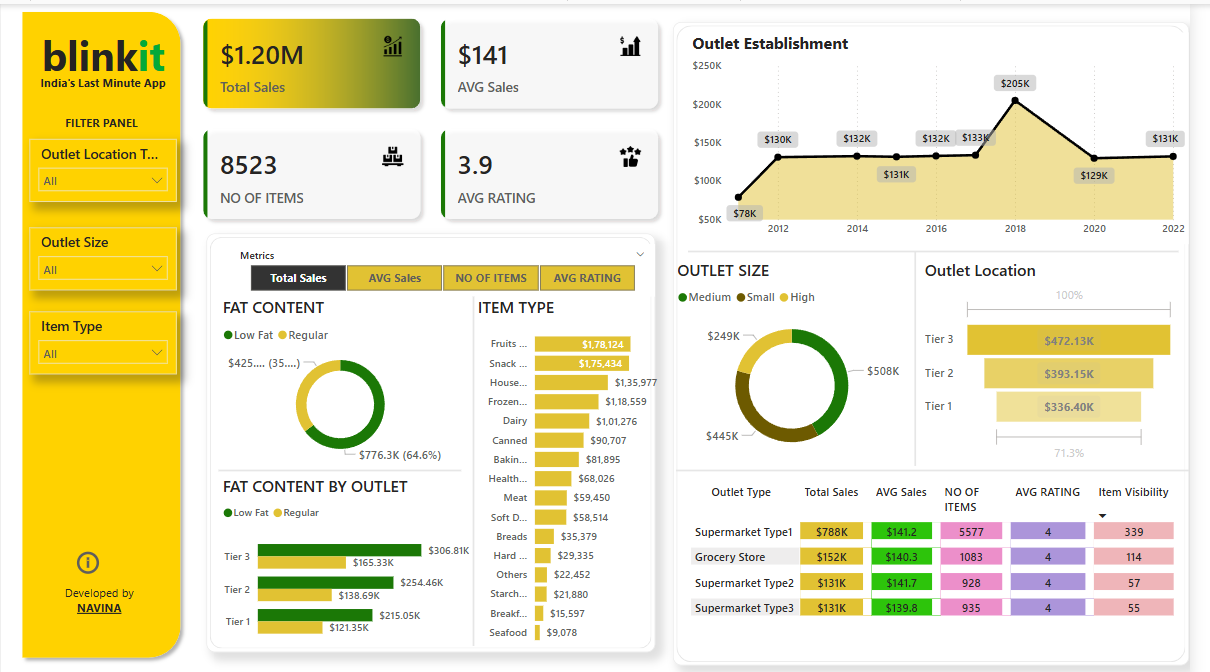

What the dashboard file says about the page in this screenshot:
{"tool":"powerbi","page":{"name":"Blinkit","canvas":[1400,800],"ordinal":0},"visuals":[{"type":"shape","box":[16.5,0,204.6,779.2],"z":0},{"type":"textbox","box":[26.9,20.7,188.1,76.5],"z":1000},{"type":"textbox","box":[33.1,78.5,173.6,35.1],"z":2000},{"type":"cardVisual","fields":{"Data":["BlinkIT Grocery Data.Total Sales","BlinkIT Grocery Data.AVG Sales","BlinkIT Grocery Data.NO OF ITEMS","BlinkIT Grocery Data.AVG RATING"]},"box":[220.9,0,570,270],"z":3000},{"type":"shape","box":[242.1,270.4,528.4,493.1],"z":4000},{"type":"donutChart","title":"FAT CONTENT","fields":{"Y":["BlinkIT Grocery Data.Total Sales"],"Category":["BlinkIT Grocery Data.Item Fat Content"]},"box":[256.3,344.6,286.3,199.7],"z":5000},{"type":"slicer","fields":{"Values":["Metrics.Metrics"]},"box":[268.6,282.8,501.9,61.9],"z":6000},{"type":"clusteredBarChart","title":"FAT CONTENT BY OUTLET","fields":{"Y":["BlinkIT Grocery Data.Total Sales"],"Category":["BlinkIT Grocery Data.Outlet Location Type"],"Series":["BlinkIT Grocery Data.Item Fat Content"]},"box":[256.3,554.9,300.4,208.5],"z":7000},{"type":"barChart","title":"ITEM TYPE","fields":{"Y":["BlinkIT Grocery Data.Total Sales"],"Category":["BlinkIT Grocery Data.Item Type"]},"box":[556.7,344.6,235.1,418.9],"z":8000},{"type":"shape","box":[256.3,544.3,286.3,10.6],"z":9000},{"type":"shape","box":[542.6,344.6,28.3,411.8],"z":10000},{"type":"shape","box":[791.8,21.2,608,758.2],"z":11000},{"type":"lineChart","title":"Outlet Establishment","fields":{"Category":["BlinkIT Grocery Data.Outlet Establishment Year"],"Y":["BlinkIT Grocery Data.Total Sales"]},"box":[809.4,33.6,590.3,249.2],"z":12000},{"type":"donutChart","title":"OUTLET SIZE","fields":{"Y":["BlinkIT Grocery Data.Total Sales"],"Category":["BlinkIT Grocery Data.Outlet Size"]},"box":[791.8,300.4,279.2,243.9],"z":13000},{"type":"funnel","title":"Outlet Location","fields":{"Category":["BlinkIT Grocery Data.Outlet Location Type"],"Y":["BlinkIT Grocery Data.Total Sales"]},"box":[1083.4,300.4,304,243.9],"z":14000},{"type":"shape","box":[809.4,282.8,577.9,17.7],"z":15000},{"type":"shape","box":[795.3,540.8,604.4,17.7],"z":16000},{"type":"shape","box":[1071,291.6,12.4,252.7],"z":17000},{"type":"pivotTable","fields":{"Values":["BlinkIT Grocery Data.Total Sales","BlinkIT Grocery Data.AVG Sales","BlinkIT Grocery Data.NO OF ITEMS","BlinkIT Grocery Data.AVG RATING","Sum(BlinkIT Grocery Data.Item Visibility)"],"Rows":["BlinkIT Grocery Data.Outlet Type"]},"box":[807.7,558.5,579.7,205],"z":18000},{"type":"slicer","fields":{"Values":["BlinkIT Grocery Data.Outlet Location Type"]},"box":[33.6,159.1,173.2,74.2],"z":19000},{"type":"slicer","fields":{"Values":["BlinkIT Grocery Data.Outlet Size"]},"box":[33.6,263.3,173.2,74.2],"z":20000},{"type":"slicer","fields":{"Values":["BlinkIT Grocery Data.Item Type"]},"box":[33.6,362.3,173.2,74.2],"z":21000},{"type":"textbox","box":[58.3,125.5,120.2,33.6],"z":22000},{"type":"actionButton","box":[84.8,638,35.3,40.6],"z":23000},{"type":"textbox","box":[33.6,678.7,164.4,70.7],"z":24000}]}

Visuals, with their boxes in screenshot pixels (x1, y1, x2, y2), scaled from the page's 1400x800 canvas onto the 1210x672 screenshot:
shape: bbox=[14, 0, 191, 655]
textbox: bbox=[23, 17, 186, 82]
textbox: bbox=[29, 66, 179, 95]
cardVisual - BlinkIT Grocery Data.Total Sales x BlinkIT Grocery Data.AVG Sales: bbox=[191, 0, 684, 227]
shape: bbox=[209, 227, 666, 641]
"FAT CONTENT" donutChart: bbox=[222, 289, 469, 457]
slicer - Metrics.Metrics: bbox=[232, 238, 666, 290]
"FAT CONTENT BY OUTLET" clusteredBarChart: bbox=[222, 466, 481, 641]
"ITEM TYPE" barChart: bbox=[481, 289, 684, 641]
shape: bbox=[222, 457, 469, 466]
shape: bbox=[469, 289, 493, 635]
shape: bbox=[684, 18, 1209, 655]
"Outlet Establishment" lineChart: bbox=[700, 28, 1209, 238]
"OUTLET SIZE" donutChart: bbox=[684, 252, 926, 457]
"Outlet Location" funnel: bbox=[936, 252, 1199, 457]
shape: bbox=[700, 238, 1199, 252]
shape: bbox=[687, 454, 1209, 469]
shape: bbox=[926, 245, 936, 457]
pivotTable - BlinkIT Grocery Data.Total Sales x BlinkIT Grocery Data.AVG Sales: bbox=[698, 469, 1199, 641]
slicer - BlinkIT Grocery Data.Outlet Location Type: bbox=[29, 134, 179, 196]
slicer - BlinkIT Grocery Data.Outlet Size: bbox=[29, 221, 179, 284]
slicer - BlinkIT Grocery Data.Item Type: bbox=[29, 304, 179, 367]
textbox: bbox=[50, 105, 154, 134]
actionButton: bbox=[73, 536, 104, 570]
textbox: bbox=[29, 570, 171, 629]
